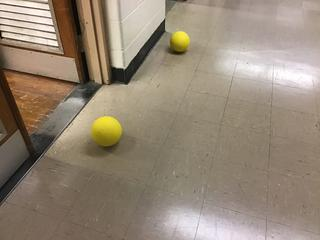power_cell: (89, 115, 123, 152), (167, 28, 195, 57)
